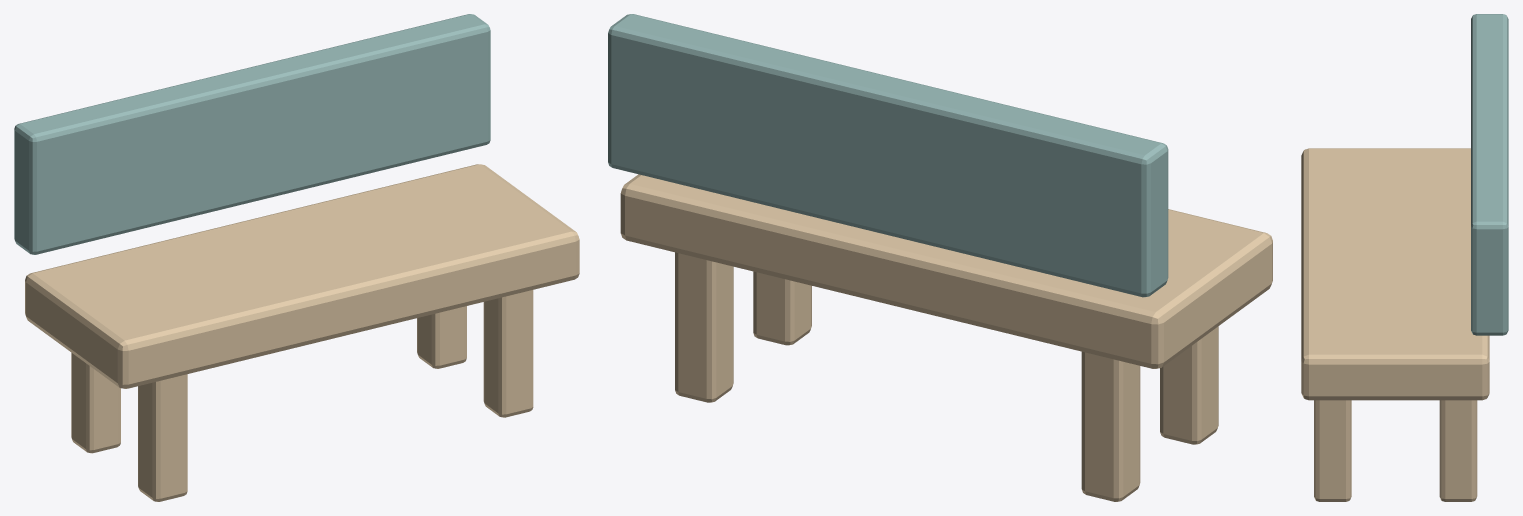
Rendered from bench.glb.
3 views of the same model, side by side, from view 1: azimuth 30°, elevation 25°; view 2: azimuth 150°, elevation 25°; view 3: azimuth 270°, elevation 25° (orthographic). The views are drawn at different scales.
Visible parts, largest first — view 1: Seat, Back, Leg.006, Leg.004, Leg.005, Leg.007; view 2: Back, Seat, Leg.005, Leg.007, Leg.004, Leg.006; view 3: Seat, Back, Leg.007, Leg.006.
Boxes of the visible parts, <box> form: Seat: <box>25,164,579,388</box>; Back: <box>14,14,490,254</box>; Leg.006: <box>483,290,533,417</box>; Leg.004: <box>138,374,187,501</box>; Leg.005: <box>71,353,120,453</box>; Leg.007: <box>417,306,466,368</box>; Back: <box>608,14,1168,297</box>; Seat: <box>620,174,1272,368</box>; Leg.005: <box>1081,351,1140,501</box>; Leg.007: <box>675,252,733,402</box>; Leg.004: <box>1160,326,1218,444</box>; Leg.006: <box>753,271,811,345</box>; Seat: <box>1301,148,1489,400</box>; Back: <box>1471,14,1508,335</box>; Leg.007: <box>1439,400,1477,501</box>; Leg.006: <box>1314,400,1351,501</box>.
Size of the model in its own units: 1.6 by 1.05 by 0.66.
